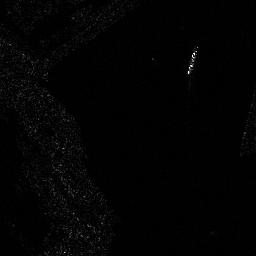ship: (186, 48, 198, 76)
